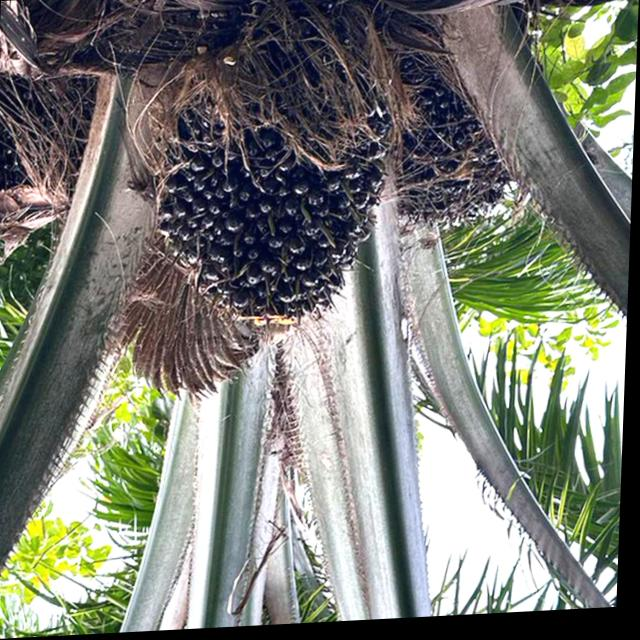almost: (149, 77, 389, 330), (392, 61, 531, 253), (0, 85, 92, 246)
